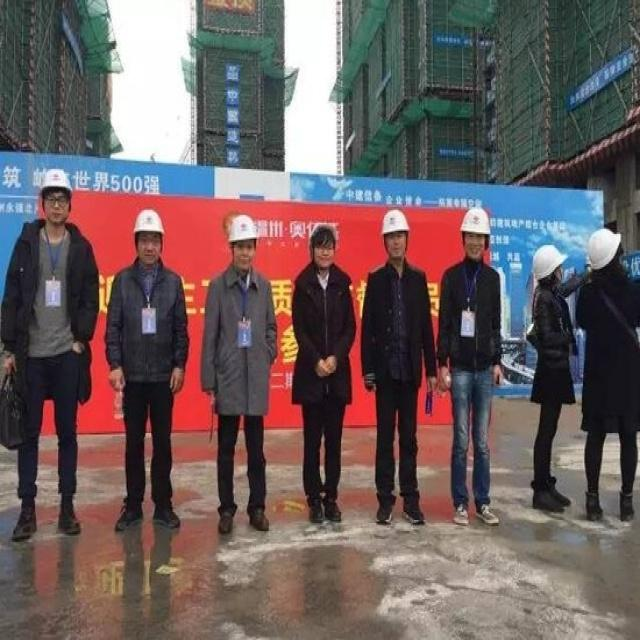helmet: (588, 302, 626, 374), (38, 222, 72, 302), (130, 276, 164, 352), (459, 275, 492, 352), (378, 278, 412, 350), (226, 286, 256, 362), (305, 300, 340, 359), (531, 324, 564, 385)
